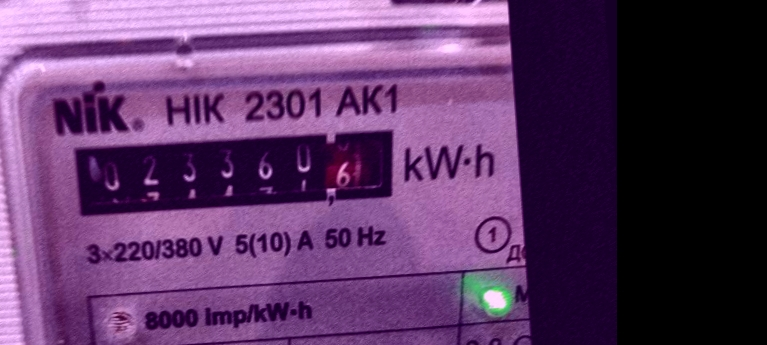0: (290, 138, 315, 174), (98, 155, 122, 192)
2: (138, 151, 161, 187)
3: (177, 148, 199, 184), (215, 144, 236, 180)
6: (253, 145, 275, 180), (331, 155, 352, 189)
screen: (59, 112, 416, 235)
